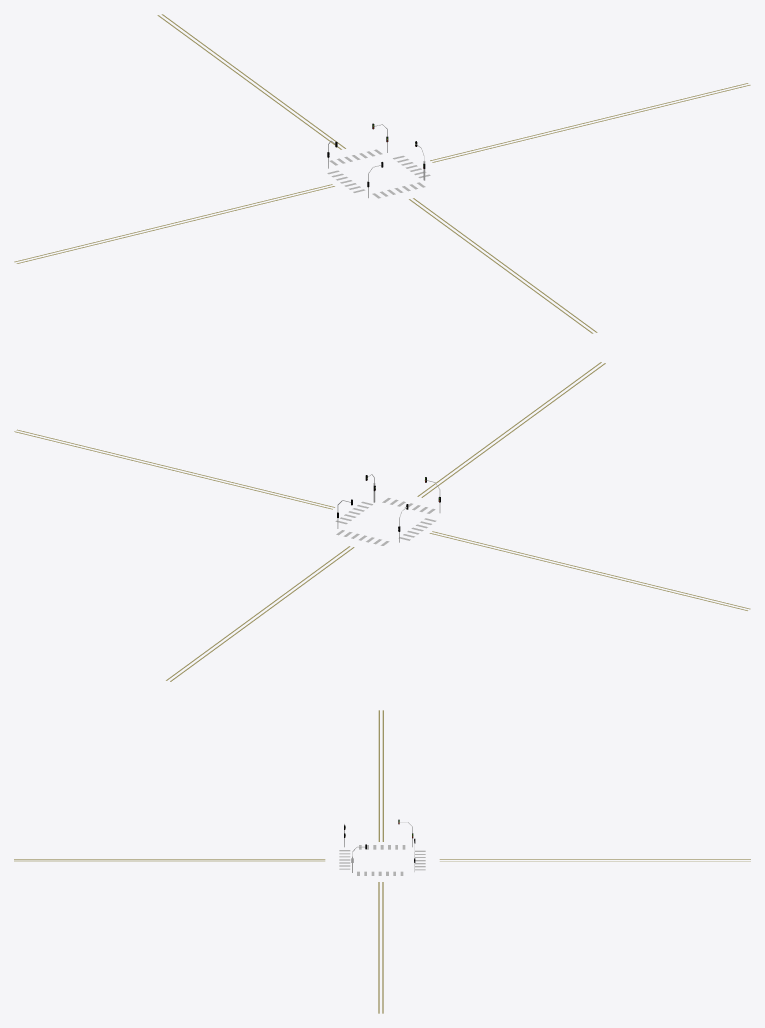
The model's file is int-test-6.fbx.
3 views of the same model, one above another, from view 1: azimuth 30°, elevation 25°; view 2: azimuth 150°, elevation 25°; view 3: azimuth 270°, elevation 25° (orthographic). The views are drawn at different scales.
Visible parts, largest first — view 1: STRET_LN.031, STRET_LN.015_STRET_LN.095, STRET_LN.016_STRET_LN.094, STRET_LN.012_STRET_LN.098; view 2: STRET_LN.015_STRET_LN.095, STRET_LN.031, STRET_LN.012_STRET_LN.098, STRET_LN.016_STRET_LN.094; view 3: STRET_LN.016_STRET_LN.094, STRET_LN.012_STRET_LN.098, STRET_LN.015_STRET_LN.095, STRET_LN.031.
Part boxes in pixels (bbox=[...]): STRET_LN.031: bbox=[14, 184, 334, 263]; STRET_LN.015_STRET_LN.095: bbox=[430, 83, 750, 162]; STRET_LN.016_STRET_LN.094: bbox=[409, 198, 597, 333]; STRET_LN.012_STRET_LN.098: bbox=[157, 14, 345, 149]; STRET_LN.015_STRET_LN.095: bbox=[14, 429, 334, 509]; STRET_LN.031: bbox=[429, 531, 750, 610]; STRET_LN.012_STRET_LN.098: bbox=[166, 546, 354, 681]; STRET_LN.016_STRET_LN.094: bbox=[417, 362, 605, 497]; STRET_LN.016_STRET_LN.094: bbox=[14, 859, 325, 861]; STRET_LN.012_STRET_LN.098: bbox=[439, 859, 750, 861]; STRET_LN.015_STRET_LN.095: bbox=[378, 882, 383, 1013]; STRET_LN.031: bbox=[378, 710, 383, 841].
Bounding box in the file's own units: 198 × 8.53 × 203.
